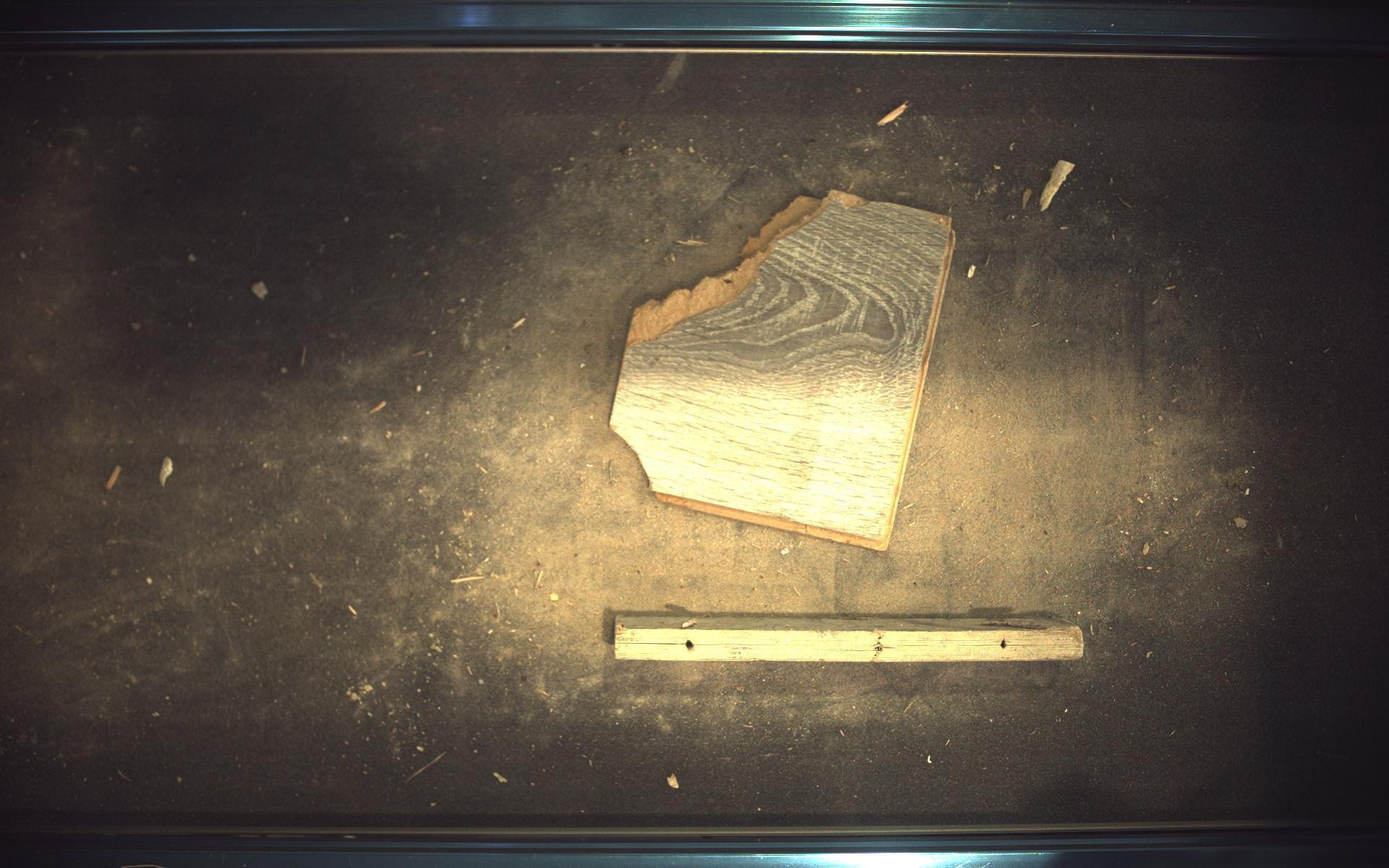wood: (611, 189, 957, 550), (613, 613, 1086, 664)
